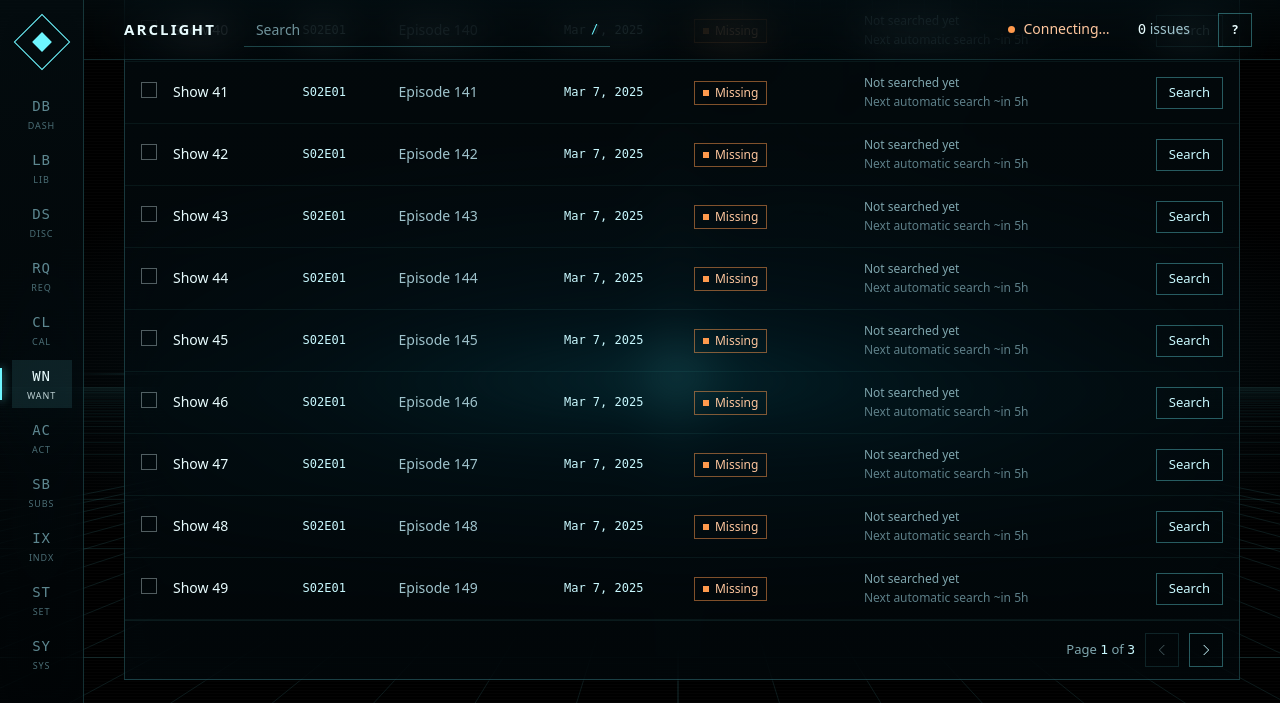
wanted page › search: a new query goes back to page 1; no match shows Clear search
(page scrolled)
Click the button named "Next page".
click(1206, 650)  # box [1189,633,1223,667]
(page scrolled)
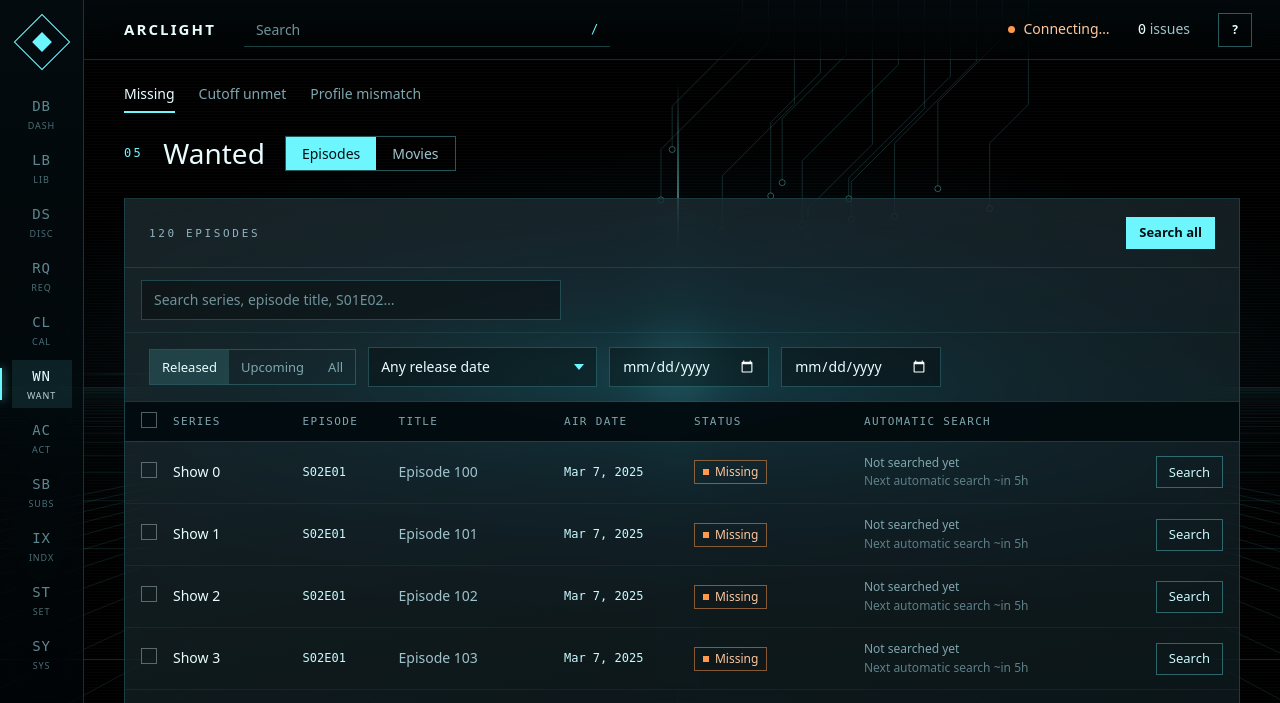
Type "zzz" into the search field named "Search this list".
click(351, 300); type("zzz")  # box [141,280,561,320]
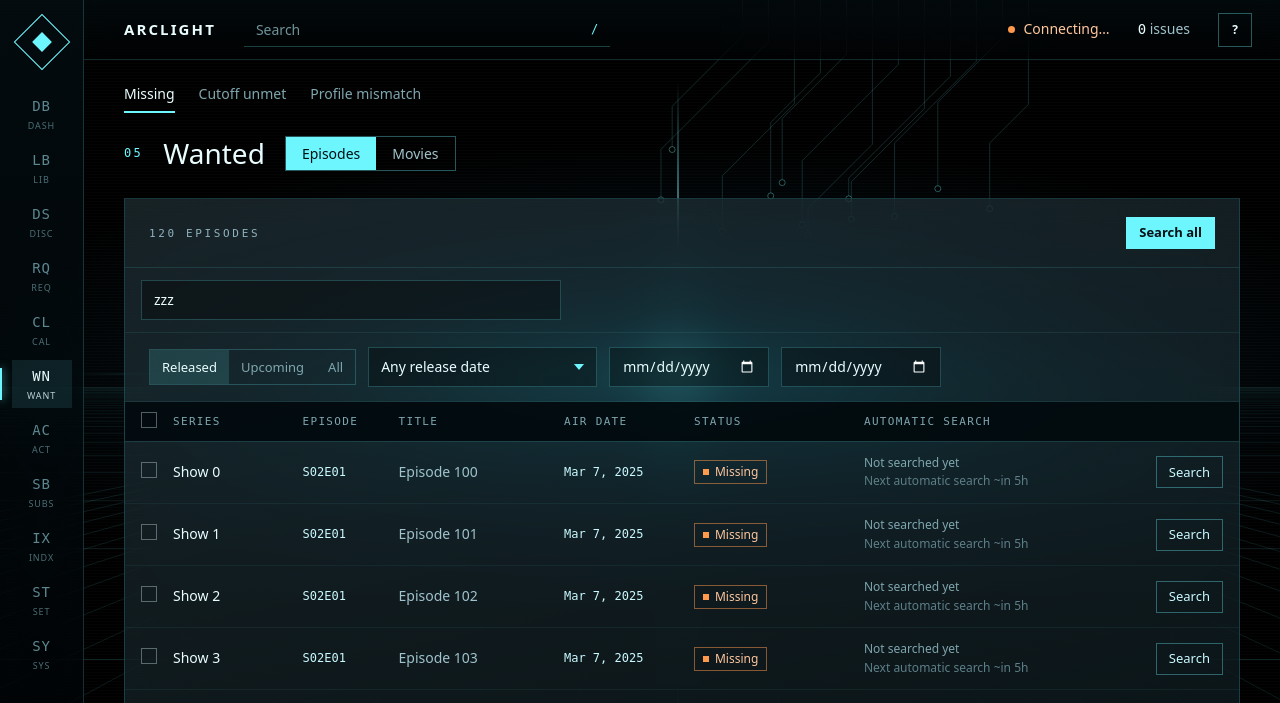
Press Enter in the search field named "Search this list", box [141,280,561,320]
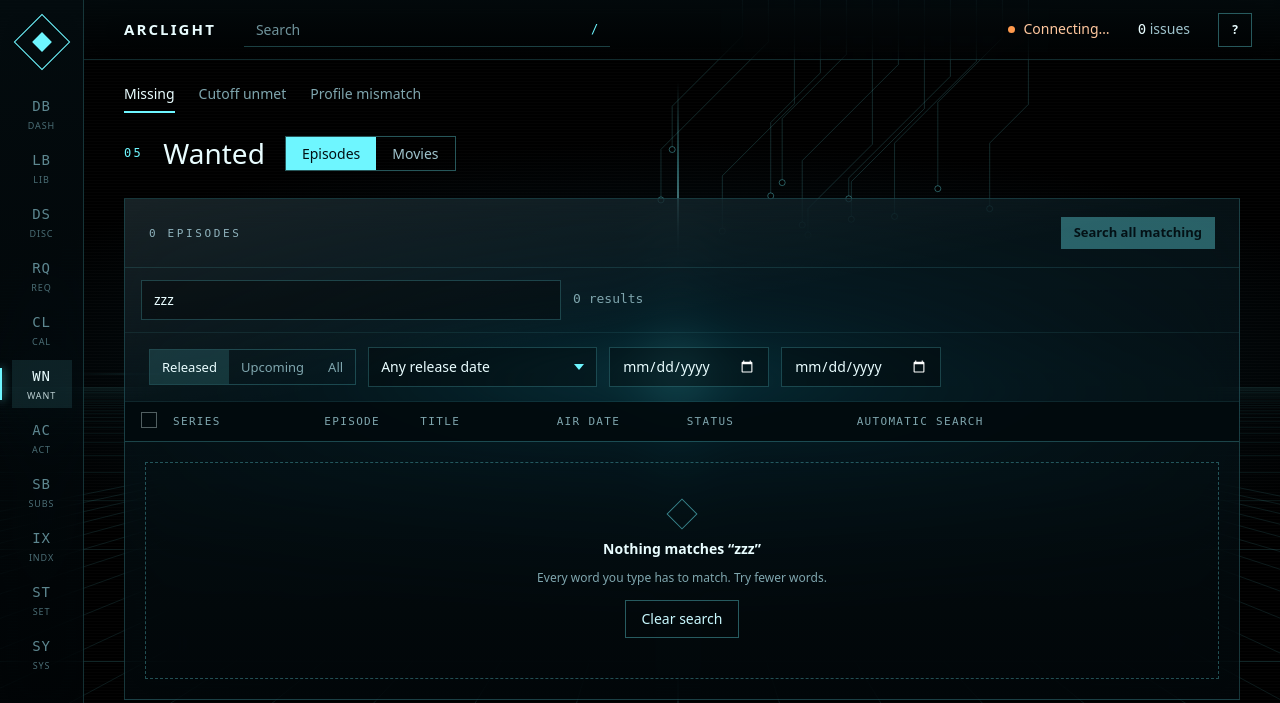
Now the text "Nothing matches “zzz”" is shown, box [603,539,761,559]
Click the button "Clear search".
click(682, 619)  # box [624,600,740,638]
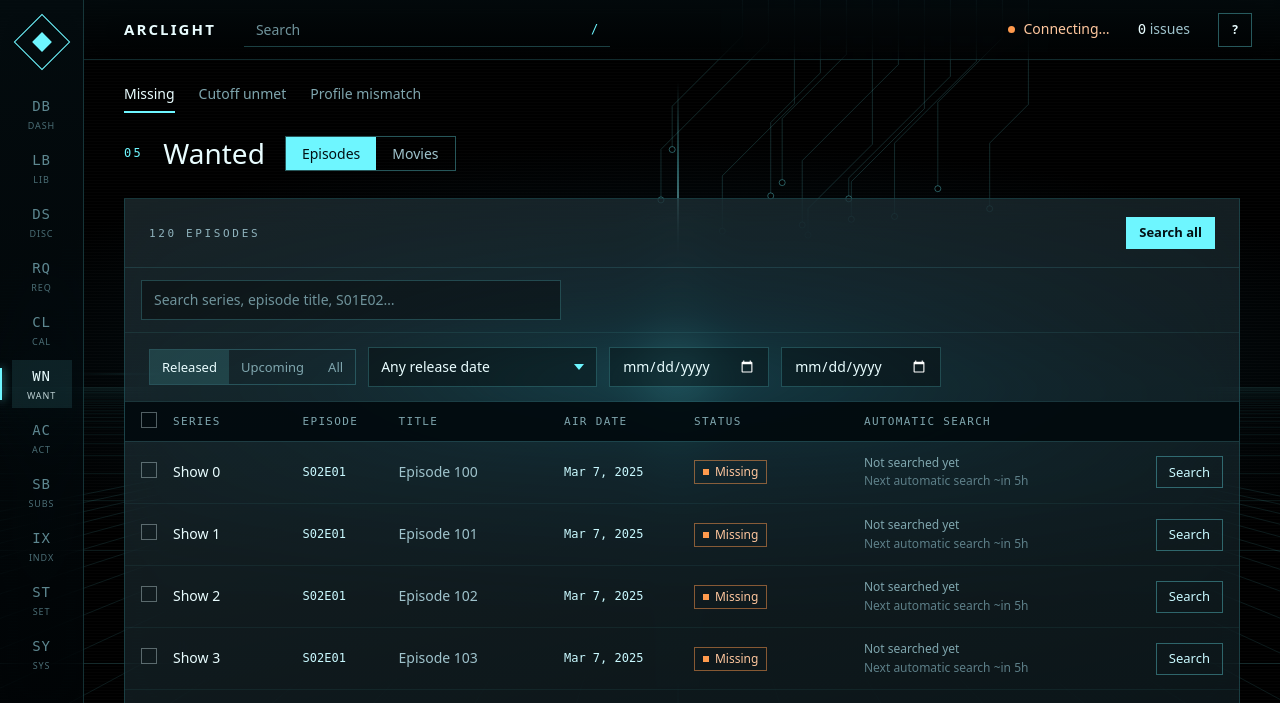
Now the checkbox named "Select Show 0 S02E01" is shown, box [141,462,157,478]
Now the text "Nothing matches “zzz”" is gone
Now the search field named "Search this list" is empty, box [141,280,561,320]
